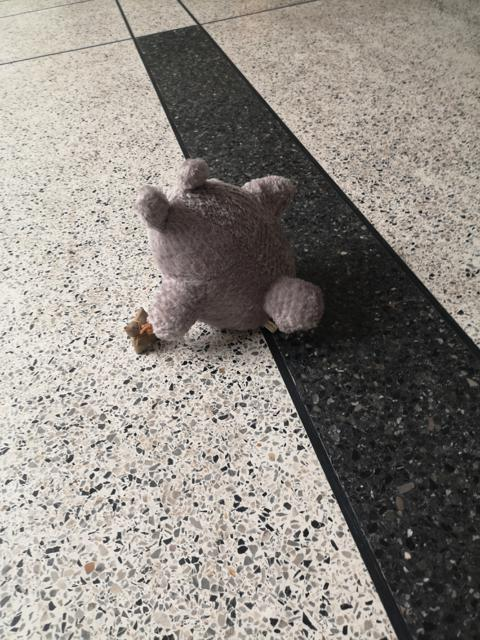totoro: (118, 155, 328, 360)
